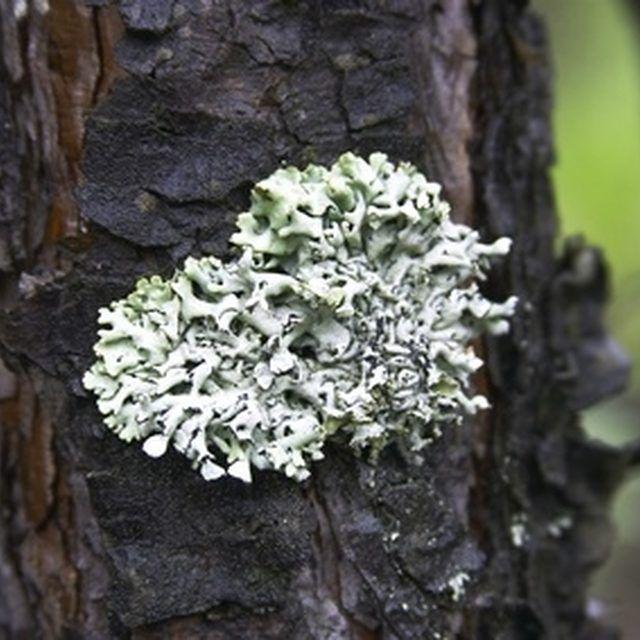lichen: (84, 153, 515, 482)
